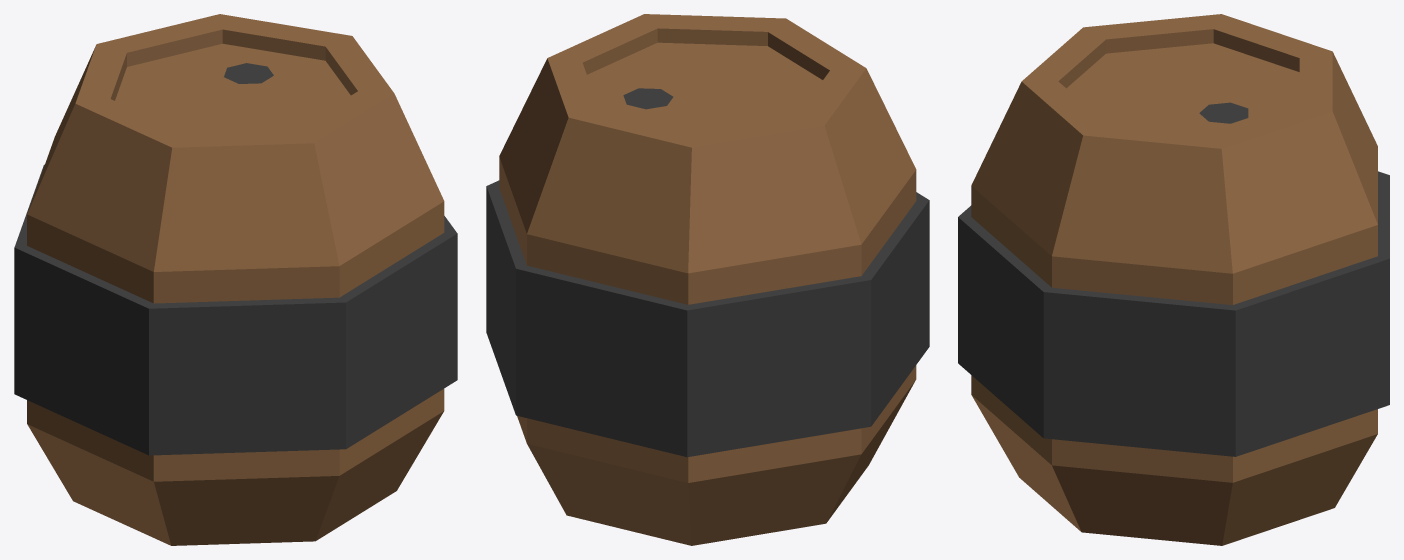
File: barrel.glb
3 renders of one model, left to right at view 1: azimuth 30°, elevation 25°; view 2: azimuth 150°, elevation 25°; view 3: azimuth 270°, elevation 25°, orthographic.
Visible parts, largest first — view 1: barrel; view 2: barrel; view 3: barrel.
Part boxes in pixels (bbox=[...]): barrel: bbox=[14, 14, 457, 545]; barrel: bbox=[486, 14, 929, 545]; barrel: bbox=[958, 14, 1389, 545].
Size of the model in its own units: 0.8893 by 0.8775 by 0.867.
Materials: 1 (1 with a texture image).
